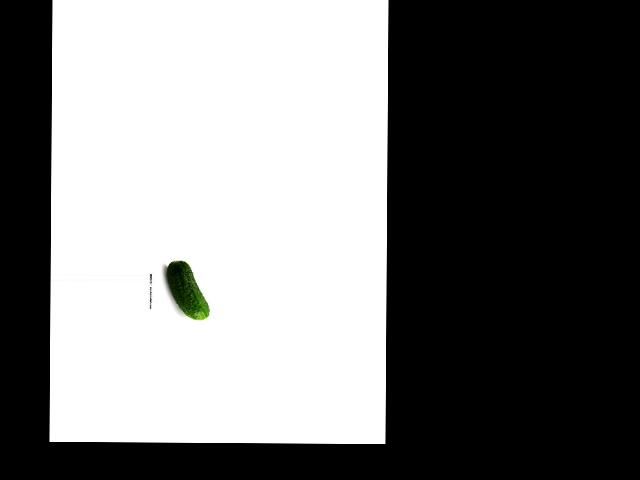cucumber: (166, 260, 209, 319)
